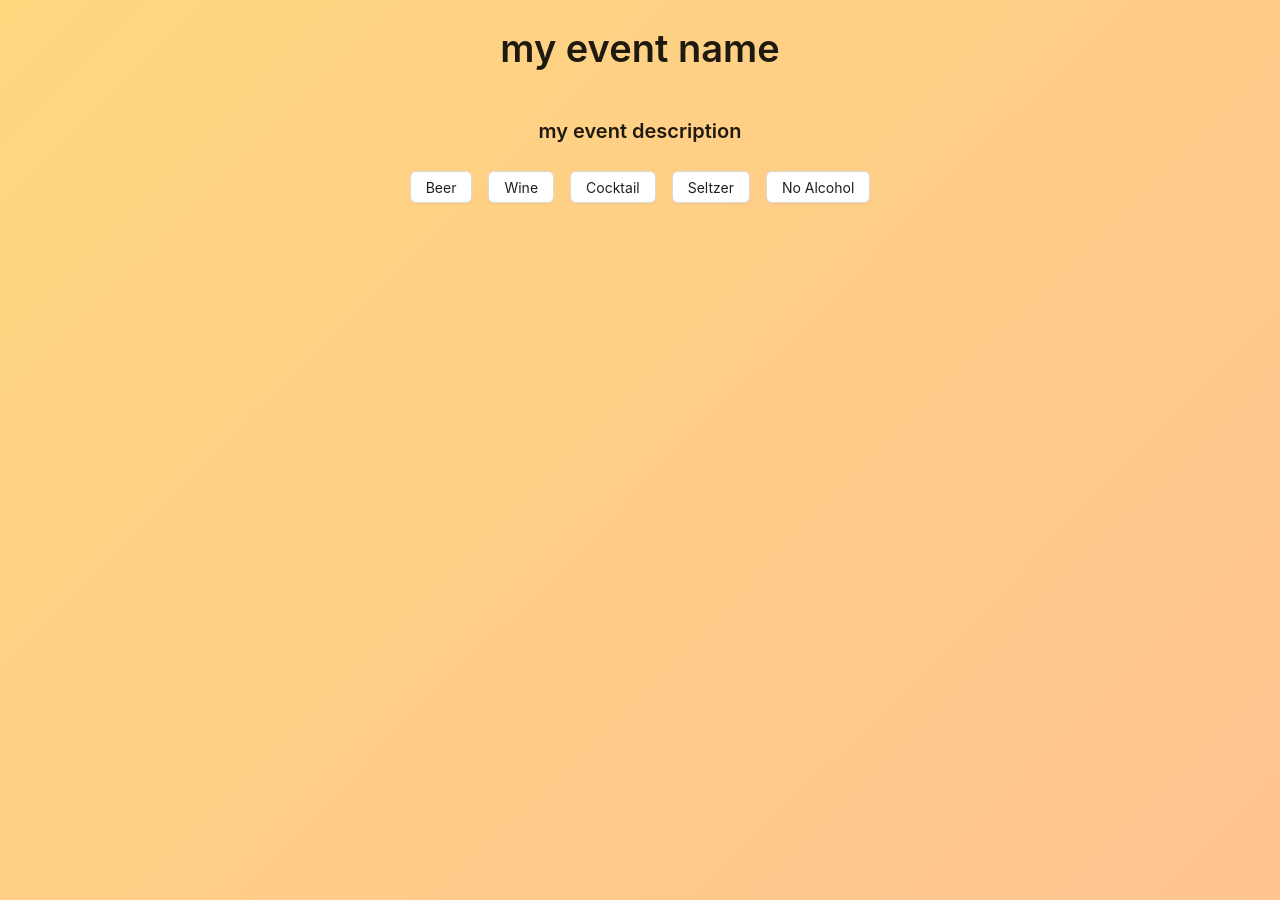
Test: Event View › Given an event id in the URL parameters › Should be able to click any of the buttons
This screenshot has width=1280, height=900.
What coordinates should you click on to do the following:
click the button "Beer"
I would click on:
 (441, 187)
Its box is [410,171,472,203].
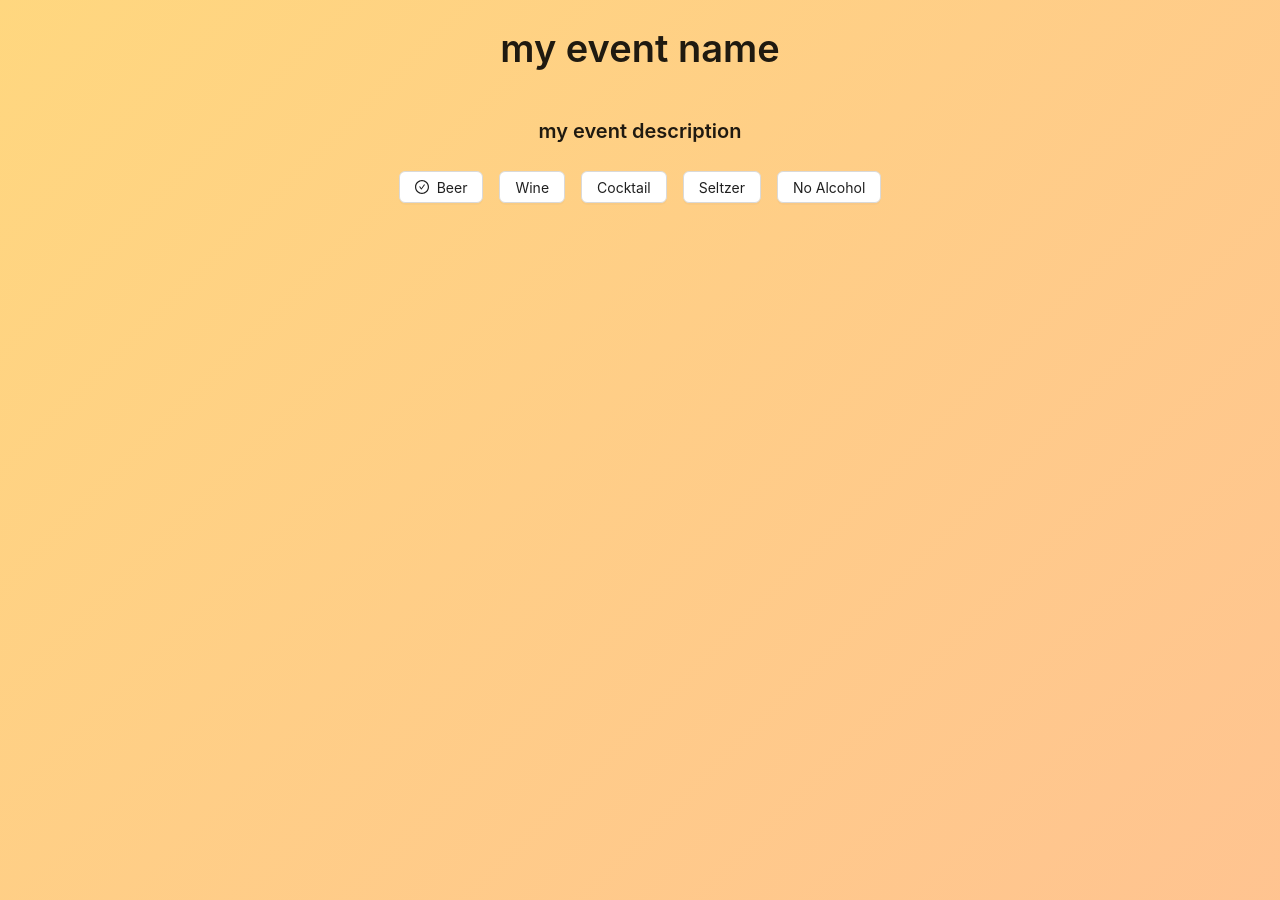
Check: the picture named "check-circle" is shown, box [415,180,429,194]
